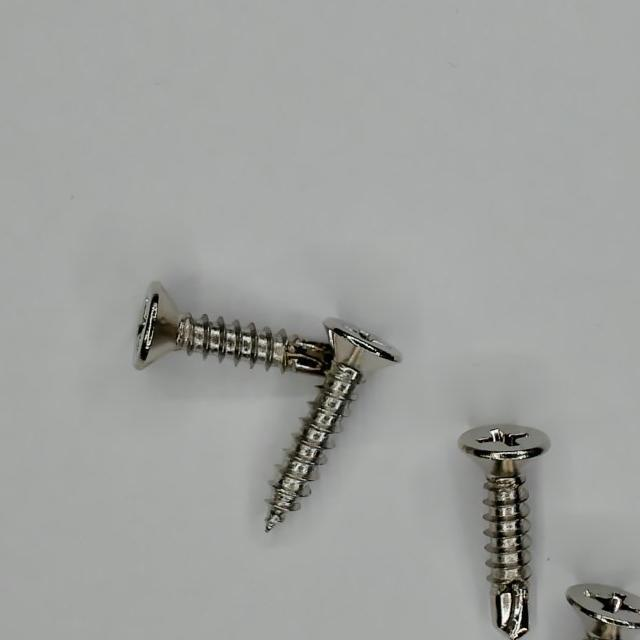Screw: (266, 319, 402, 532), (459, 425, 552, 640), (134, 283, 336, 376), (569, 585, 640, 640)
